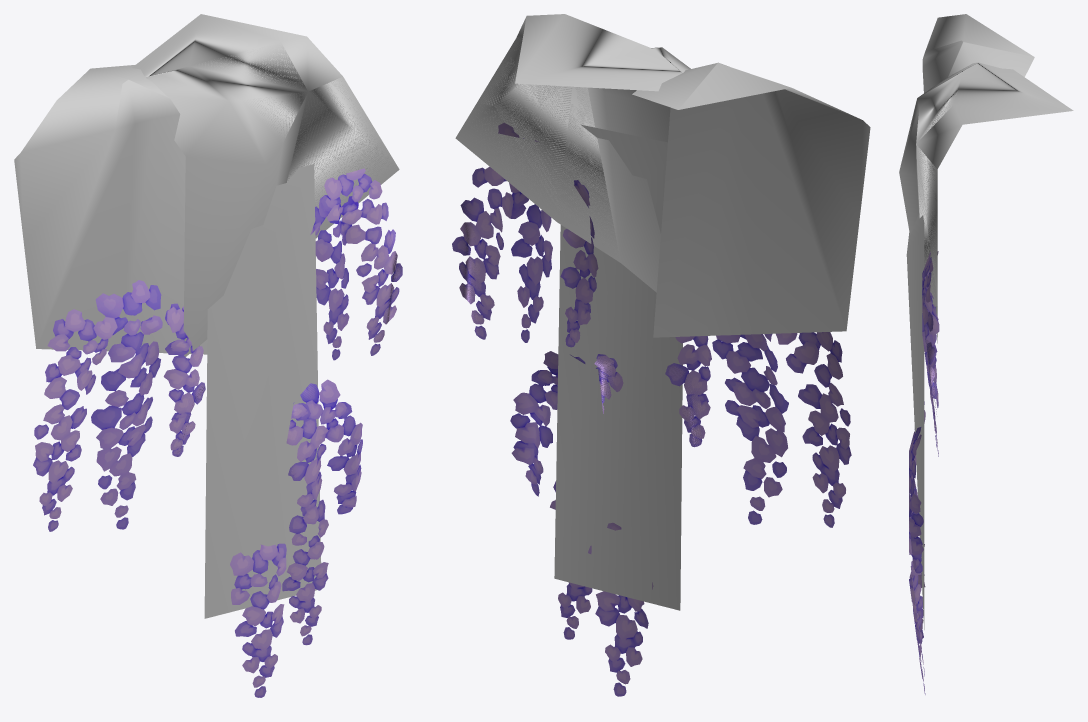
File: SM_Env_Vines_Preset_Overhang_02.fbx
3 views of the same model, side by side, from view 1: azimuth 30°, elevation 25°; view 2: azimuth 150°, elevation 25°; view 3: azimuth 270°, elevation 25° (orthographic). The views are drawn at different scales.
Visible parts, largest first — view 1: SM_Env_Vines_Preset_Overhang_02; view 2: SM_Env_Vines_Preset_Overhang_02; view 3: SM_Env_Vines_Preset_Overhang_02.
Part boxes in pixels (left/top/right/bottom): SM_Env_Vines_Preset_Overhang_02: left=14, top=14, right=402, bottom=697; SM_Env_Vines_Preset_Overhang_02: left=452, top=14, right=870, bottom=696; SM_Env_Vines_Preset_Overhang_02: left=899, top=14, right=1073, bottom=694.
Size of the model in its own units: 175 by 269 by 69.8.
